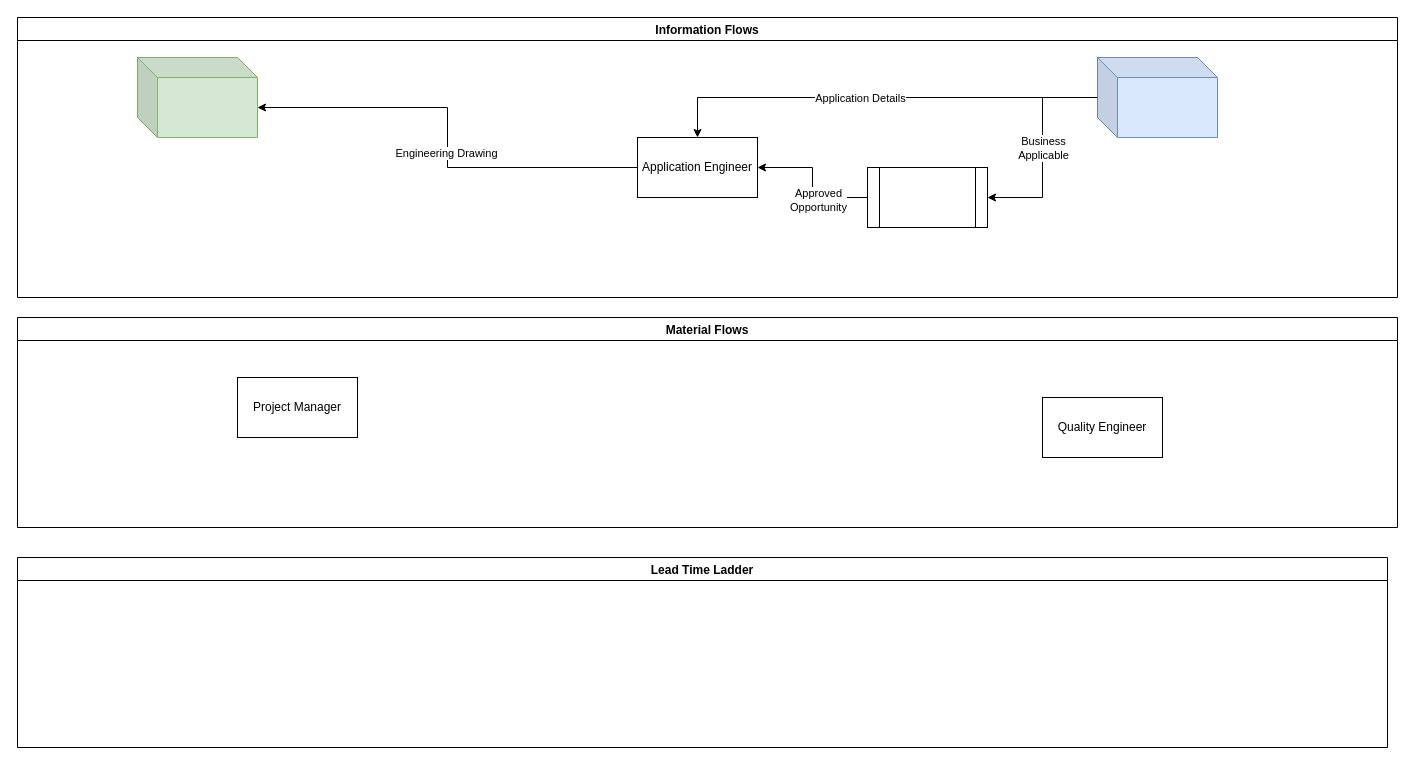
This 1415x765 diagram has some shape labels left out. The centre of each missing label's shape, as x and y in pixels:
"BDM Qualification Process" belongs at point (927, 197).
"Customer" belongs at point (1157, 97).
"Supplier" belongs at point (197, 97).
